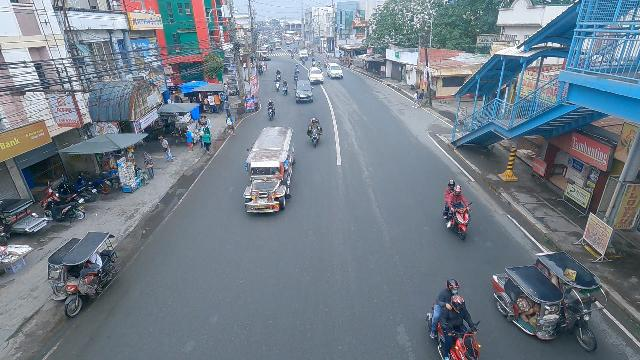car: (293, 80, 314, 104), (307, 67, 325, 85), (326, 63, 343, 80)
jeepney: (240, 125, 297, 220), (259, 48, 271, 61)
motorcycle: (425, 277, 487, 360), (443, 180, 472, 241), (306, 118, 323, 148), (266, 100, 276, 121), (281, 81, 289, 97), (274, 79, 281, 92), (294, 65, 300, 77), (275, 69, 281, 81), (316, 61, 323, 71), (294, 72, 299, 84), (258, 66, 263, 75), (324, 60, 328, 68), (312, 57, 315, 66), (291, 51, 294, 59)
van: (298, 49, 309, 60)
